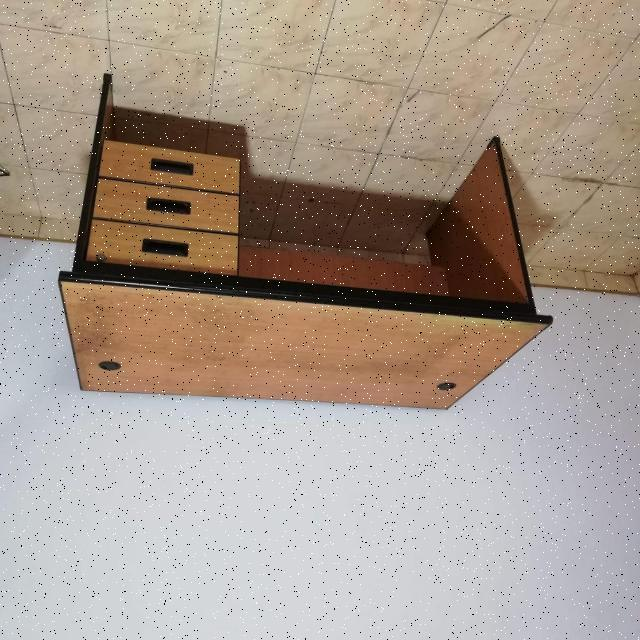mobile-phone: (59, 79, 555, 414)
